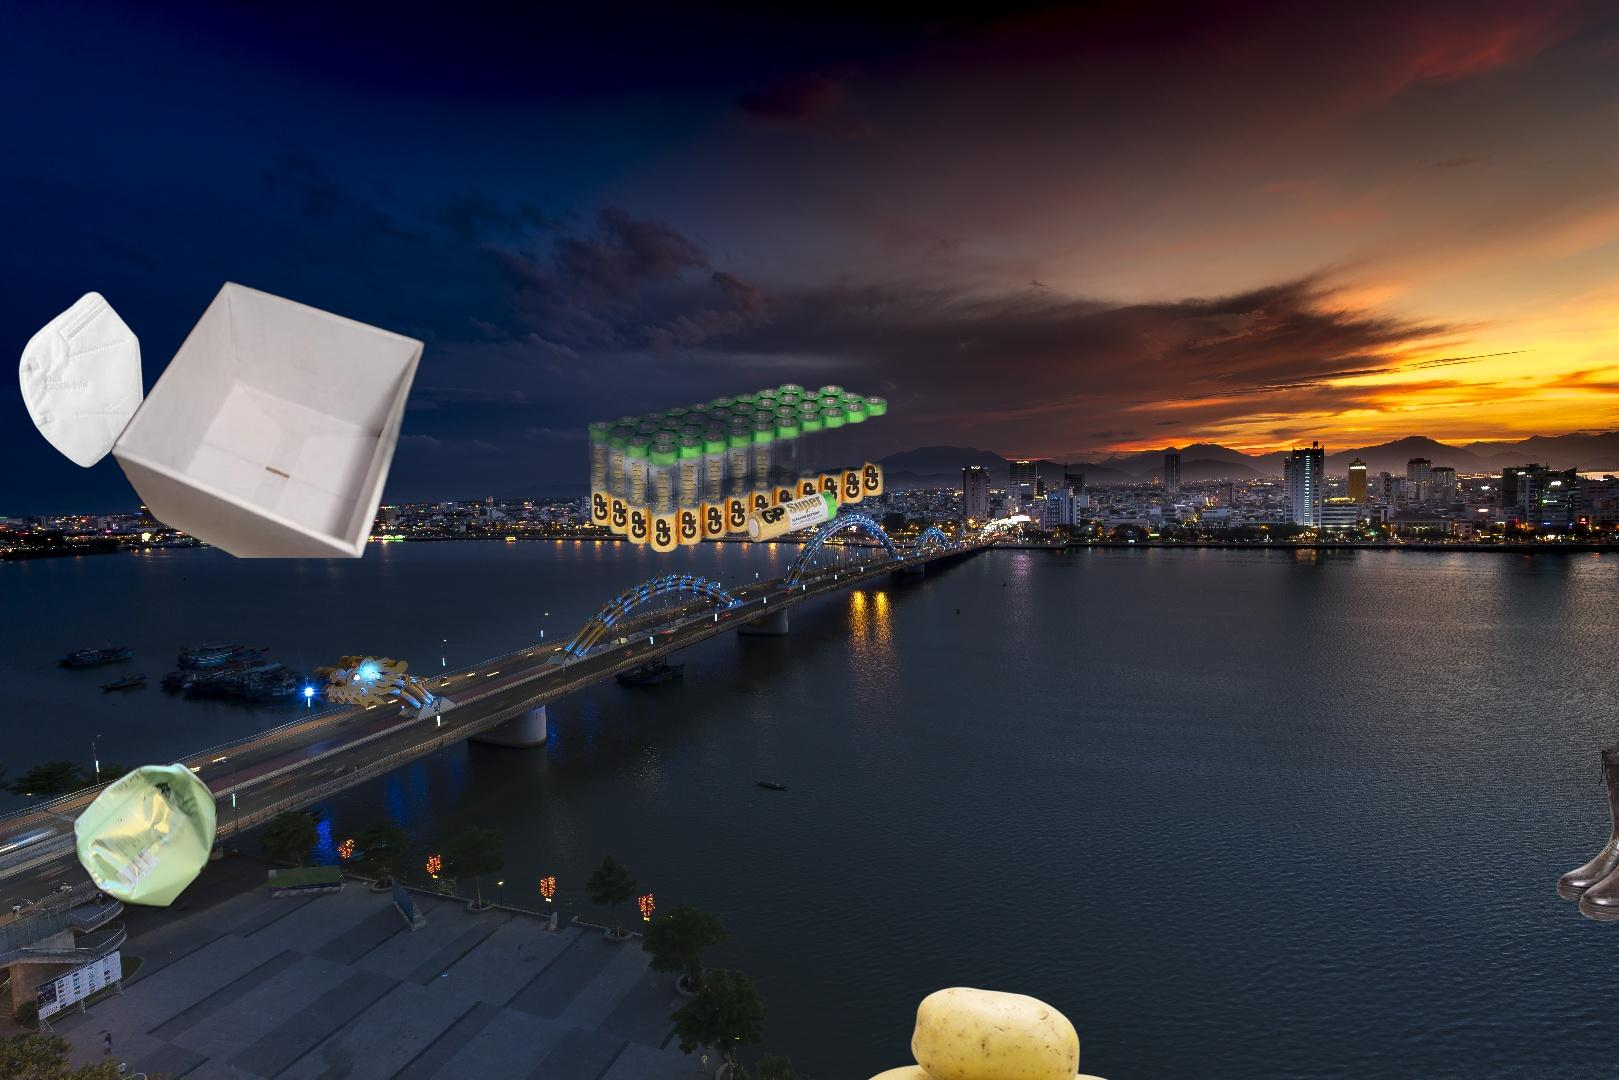battery: (588, 383, 887, 552)
biological: (838, 986, 1215, 1080)
metal-cans: (69, 756, 223, 912)
shoes: (1553, 736, 1619, 925)
trash: (16, 289, 147, 471)
trashbox-cardboard: (108, 278, 428, 558)
